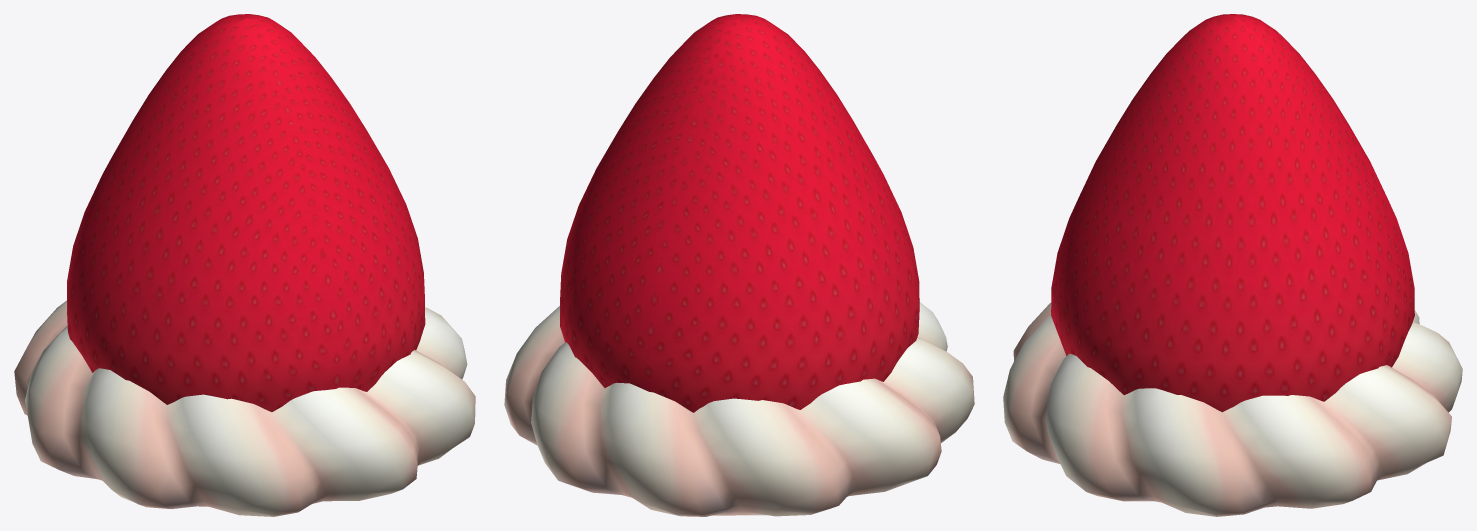
File: Strawberry_and_Whippedcream02.fbx
3 renders of one model, left to right at view 1: azimuth 30°, elevation 25°; view 2: azimuth 150°, elevation 25°; view 3: azimuth 270°, elevation 25°, orthographic.
Visible parts, largest first — view 1: Strawberry_and_Whippedcream; view 2: Strawberry_and_Whippedcream; view 3: Strawberry_and_Whippedcream.
Part boxes in pixels (box(x1,y1,x2,y2)): Strawberry_and_Whippedcream: box(14, 14, 475, 516); Strawberry_and_Whippedcream: box(504, 14, 974, 516); Strawberry_and_Whippedcream: box(1003, 14, 1462, 516).
Size of the model in its own units: 193 by 194 by 190.
2 materials, 2 textured.
